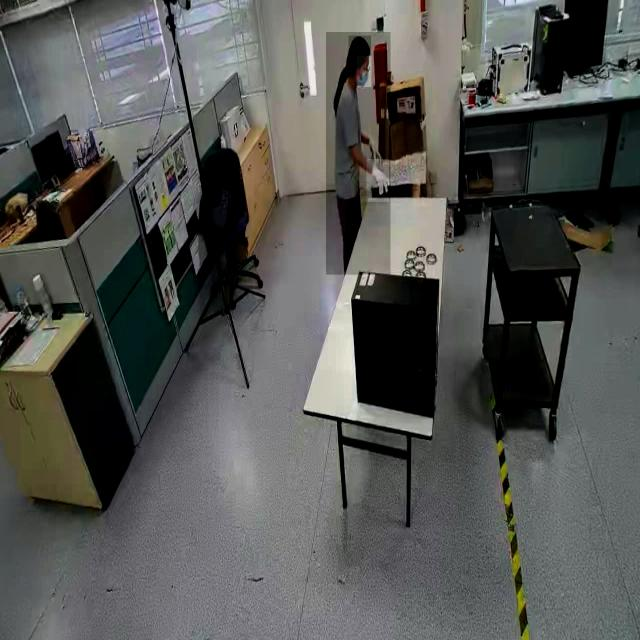face_mask: (356, 56, 372, 88)
hand_glove: (366, 159, 389, 203)
head_nohelmet: (348, 36, 371, 56)
person: (326, 32, 390, 276)
